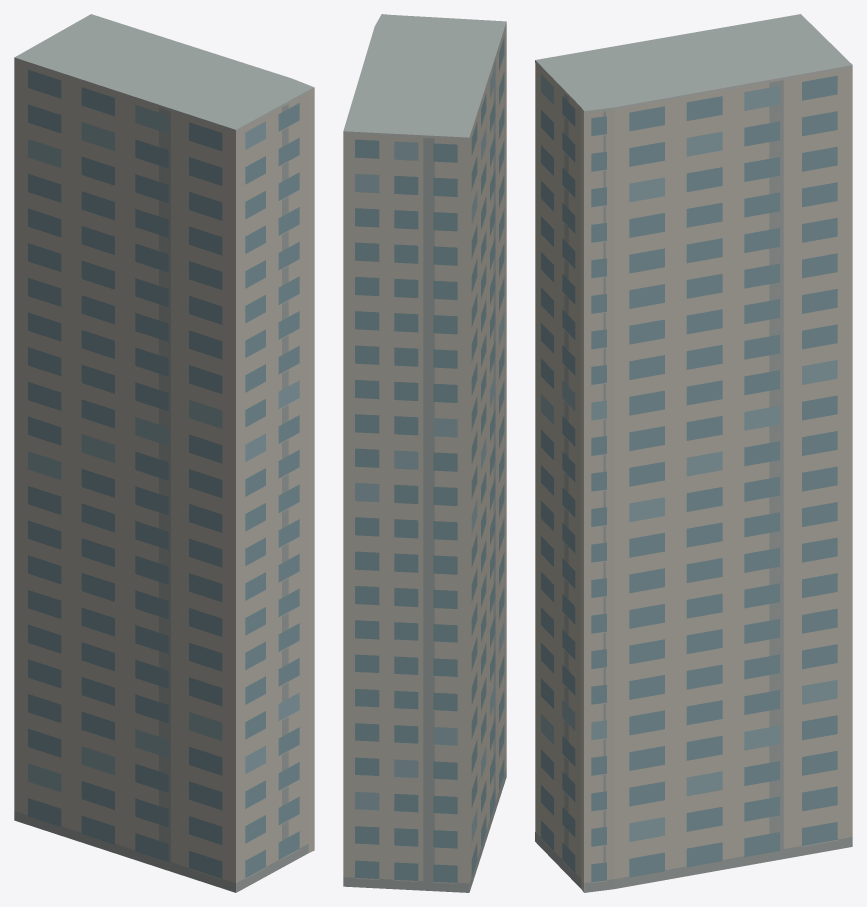
Rendered from survey-upis-32952486.glb.
3 renders of one model, left to right at view 1: azimuth 30°, elevation 25°; view 2: azimuth 150°, elevation 25°; view 3: azimuth 270°, elevation 25°, orthographic. The views are drawn at different scales.
Visible parts, largest first — view 1: survey-upis-32952486.tmp; view 2: survey-upis-32952486.tmp; view 3: survey-upis-32952486.tmp.
Part boxes in pixels (x1,y1,x2,y2): survey-upis-32952486.tmp: (14, 14, 314, 892); survey-upis-32952486.tmp: (343, 14, 506, 892); survey-upis-32952486.tmp: (535, 14, 852, 892).
Bounding box in the file's own units: 17.9 × 67.1 × 24.71.
